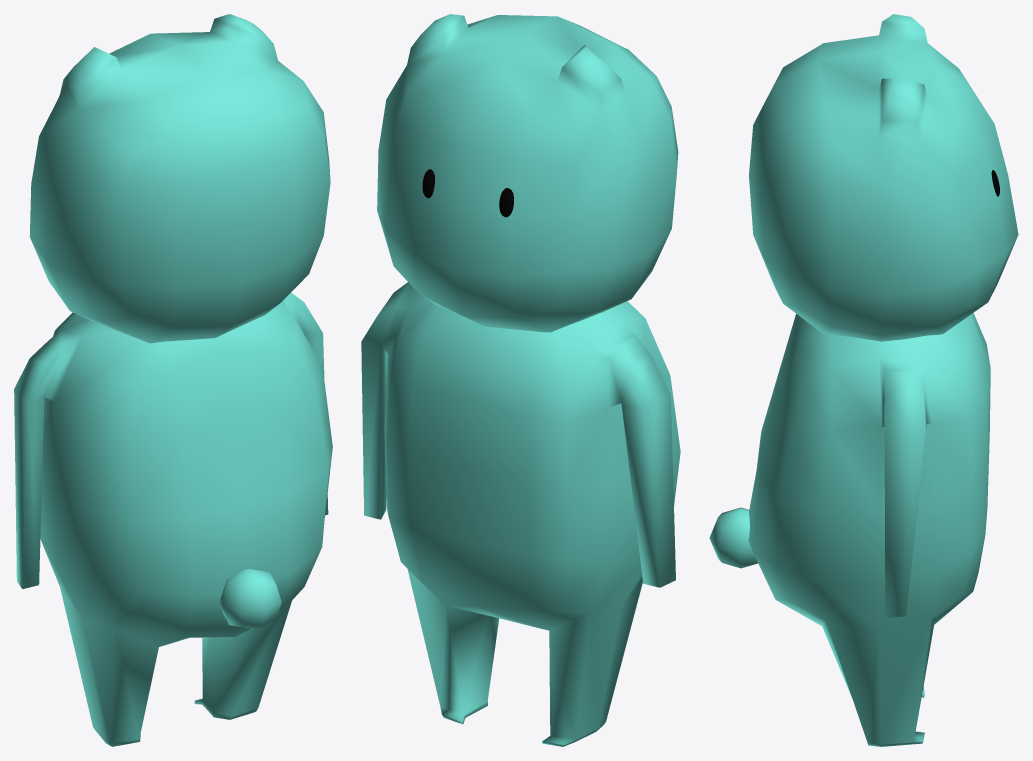
Rendered from player.glb.
3 views of the same model, side by side, from view 1: azimuth 30°, elevation 25°; view 2: azimuth 150°, elevation 25°; view 3: azimuth 270°, elevation 25° (orthographic). The views are drawn at different scales.
Visible parts, largest first — view 1: Cube.001; view 2: Cube.001; view 3: Cube.001.
Boxes of the visible parts, x1=… form: Cube.001: x1=14, y1=14, x2=332, y2=746; Cube.001: x1=361, y1=14, x2=680, y2=746; Cube.001: x1=709, y1=14, x2=1018, y2=746.
Size of the model in its own units: 1.42 by 3.06 by 1.28.
